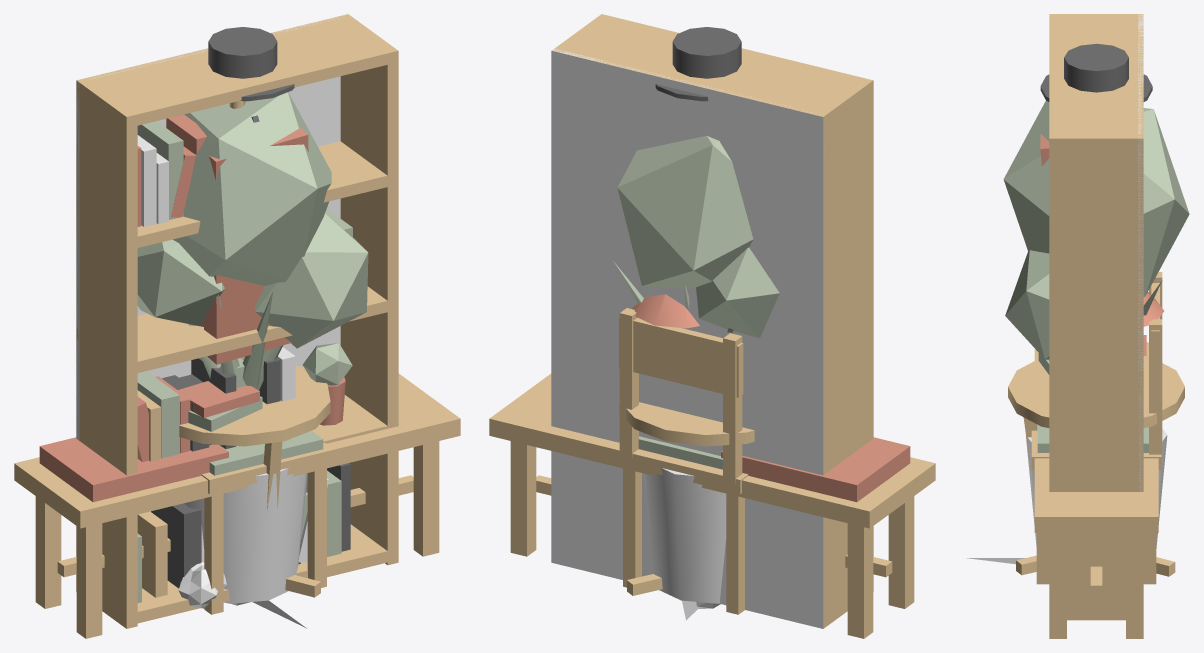
File: props.glb
3 views of the same model, side by side, from view 1: azimuth 30°, elevation 25°; view 2: azimuth 150°, elevation 25°; view 3: azimuth 270°, elevation 25° (orthographic). The views are drawn at different scales.
Visible parts, largest first — view 1: bookshelf, plant_tall, bench, side_table, coat_rack, chair, plant, trash_bin; view 2: bookshelf, plant_tall, bench, chair, side_table, coat_rack; view 3: bookshelf, plant_tall, bench, chair, side_table, coat_rack.
Part boxes in pixels (x1,y1,x2,y2): bookshelf: (76,14,398,628); plant_tall: (137,92,368,603); bench: (14,373,460,638); side_table: (178,365,330,510); coat_rack: (204,27,320,597); chair: (201,431,334,614); plant: (188,292,282,390); trash_bin: (178,562,226,608); bookshelf: (551,14,873,628); plant_tall: (617,135,779,603); bench: (489,373,935,638); chair: (615,308,748,614); side_table: (619,294,754,446); coat_rack: (627,27,741,595); bookshelf: (1049,14,1143,620); plant_tall: (1003,100,1189,548); bench: (1034,335,1158,638); chair: (1031,272,1162,584); side_table: (1008,292,1184,471); coat_rack: (1016,43,1175,576).
Bounding box in the file's own units: 1.4 × 1.98 × 0.7632.
